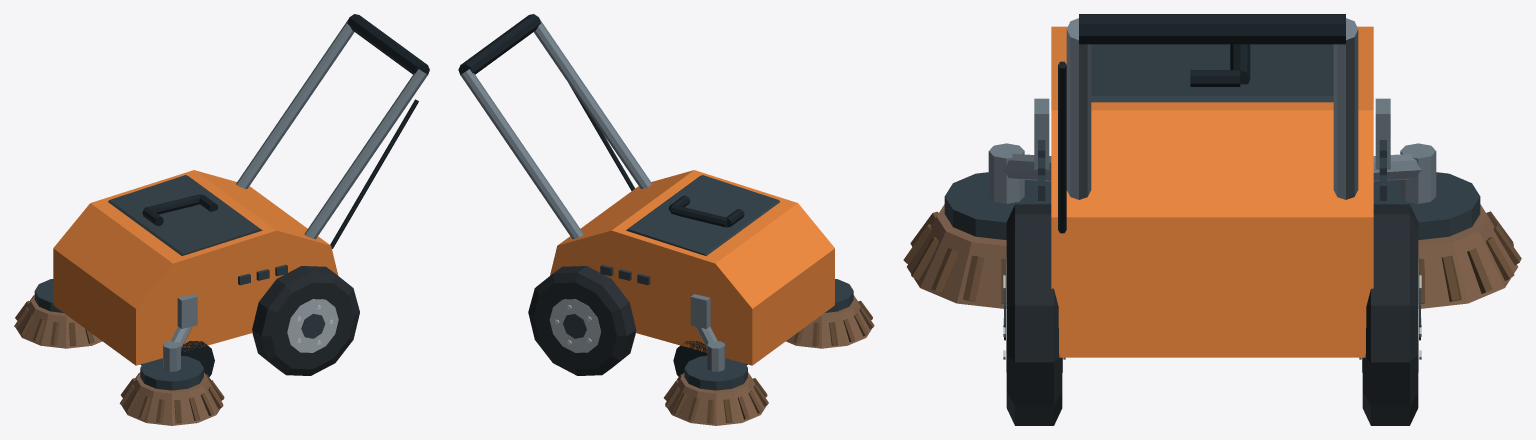
The model's file is b04_walk_behind_parking_lot_sweeper.glb.
The picture shows the model from 3 angles, left to right: view 1: azimuth 30°, elevation 25°; view 2: azimuth 150°, elevation 25°; view 3: azimuth 270°, elevation 25°; orthographic projection. The views are drawn at different scales.
Parts seen in each view (by area): view 1: b04_walk_behind_parking_lot_sweeper; view 2: b04_walk_behind_parking_lot_sweeper; view 3: b04_walk_behind_parking_lot_sweeper.
Part boxes in pixels (x1,y1,x2,y2): b04_walk_behind_parking_lot_sweeper: (14, 14, 429, 425); b04_walk_behind_parking_lot_sweeper: (458, 14, 874, 425); b04_walk_behind_parking_lot_sweeper: (903, 14, 1521, 425).
Bounding box in the file's own units: 1.31 × 1.04 × 1.11.
